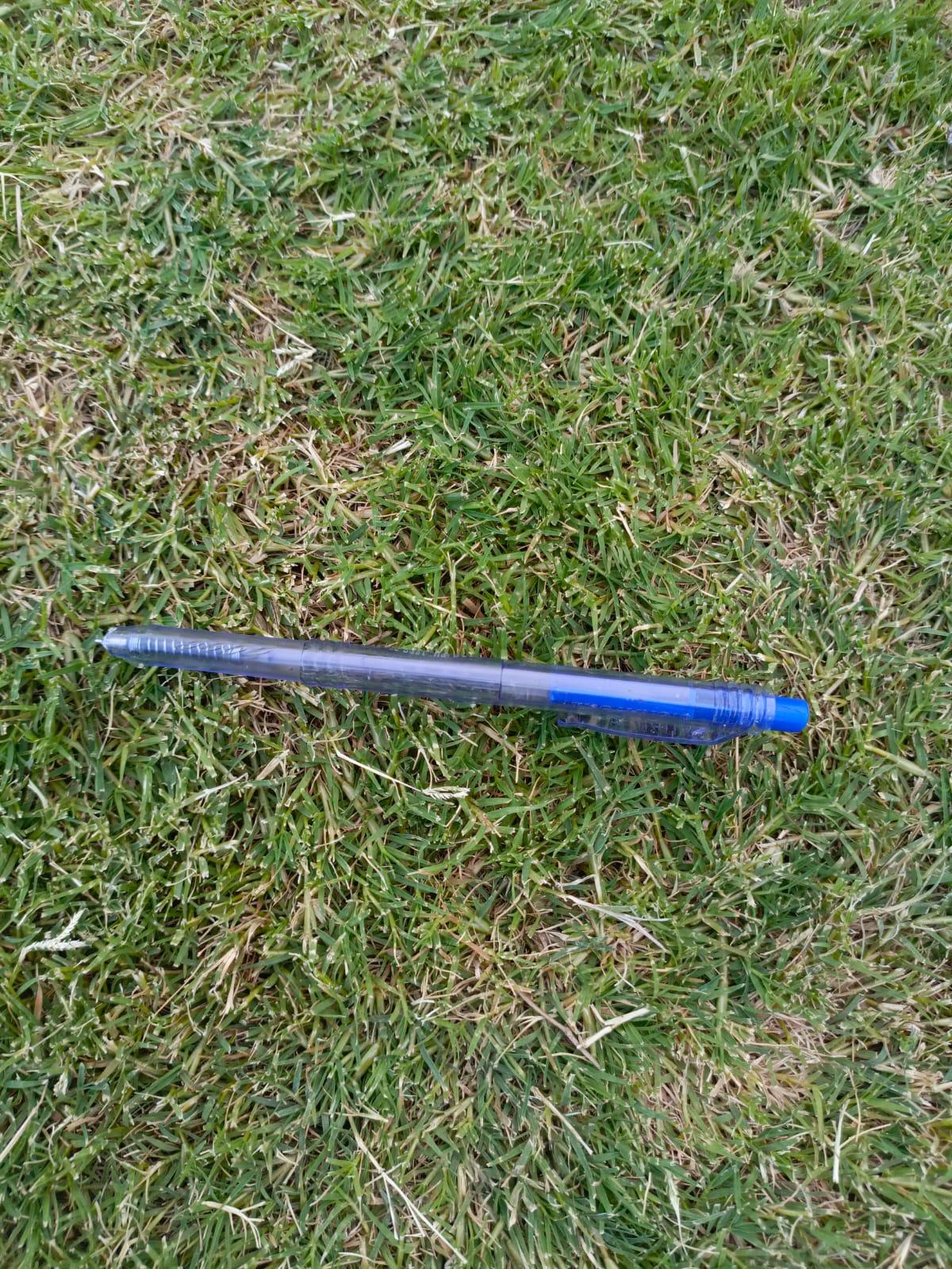ballpoint3: (100, 625, 808, 744)
